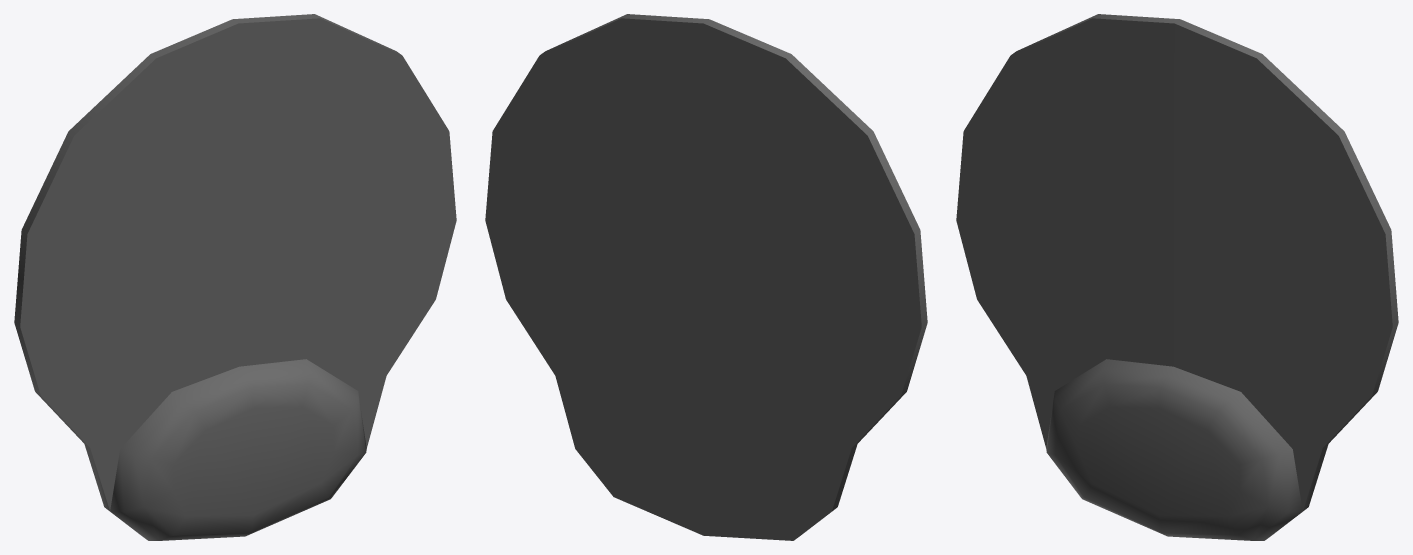
Rendered from Pc_Mouse_Pad.obj.
3 views of the same model, side by side, from view 1: azimuth 30°, elevation 25°; view 2: azimuth 150°, elevation 25°; view 3: azimuth 330°, elevation 25° (orthographic).
Parts seen in each view (by area): view 1: Pc_Mouse_Pad; view 2: Pc_Mouse_Pad; view 3: Pc_Mouse_Pad.
Boxes of the visible parts, x1,y1,x2,y2 form: Pc_Mouse_Pad: [14, 14, 456, 540]; Pc_Mouse_Pad: [485, 14, 927, 540]; Pc_Mouse_Pad: [956, 14, 1398, 540].
Size of the model in its own units: 0.2602 by 0.2918 by 0.0223.
